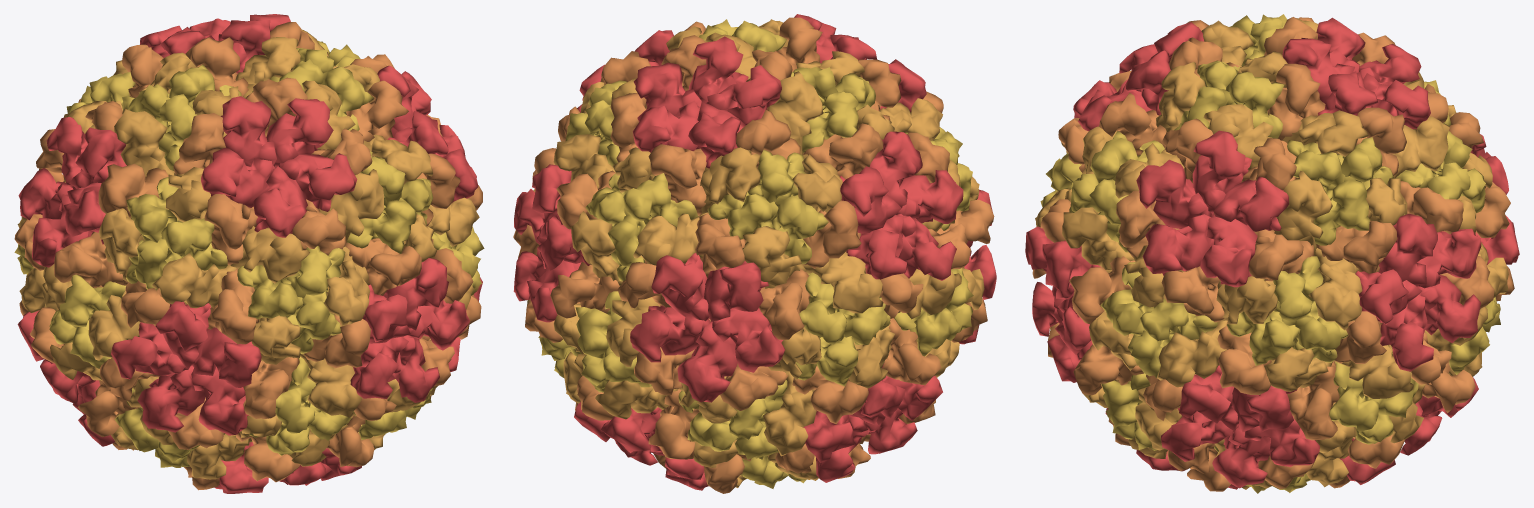
The model's file is 1OHF(2).glb.
3 views of the same model, side by side, from view 1: azimuth 30°, elevation 25°; view 2: azimuth 150°, elevation 25°; view 3: azimuth 270°, elevation 25° (orthographic). The views are drawn at different scales.
Size of the model in its own units: 422 by 426 by 428.
